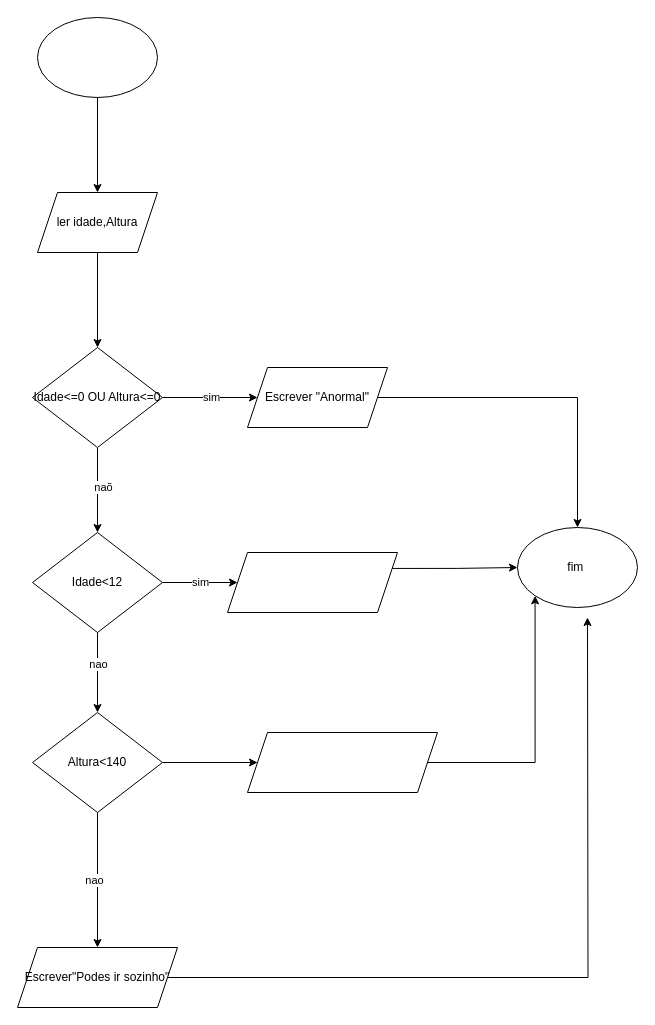
The diagram is 655 pixels wide and 1025 high, and some of its shapes have lost their labels. The centre of each missing label's shape, as x and y in pixels:
Escrever "Nao pode andar": (x=312, y=582)
EScrever "so pode andar acompanhado por um adulto": (x=342, y=762)
inicio: (x=97, y=57)
